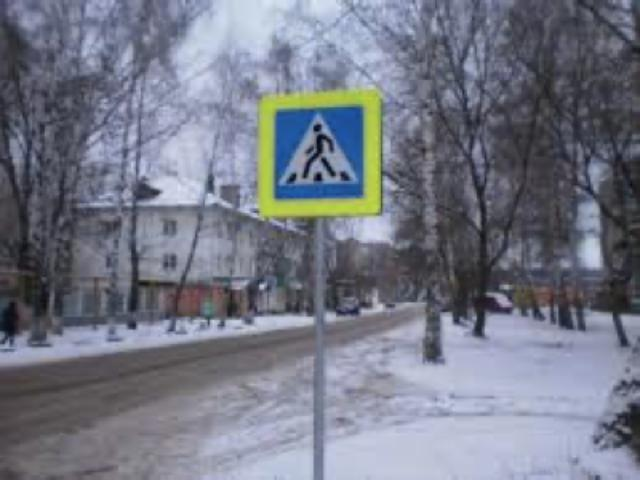crosswalk-sign: (257, 88, 383, 219)
